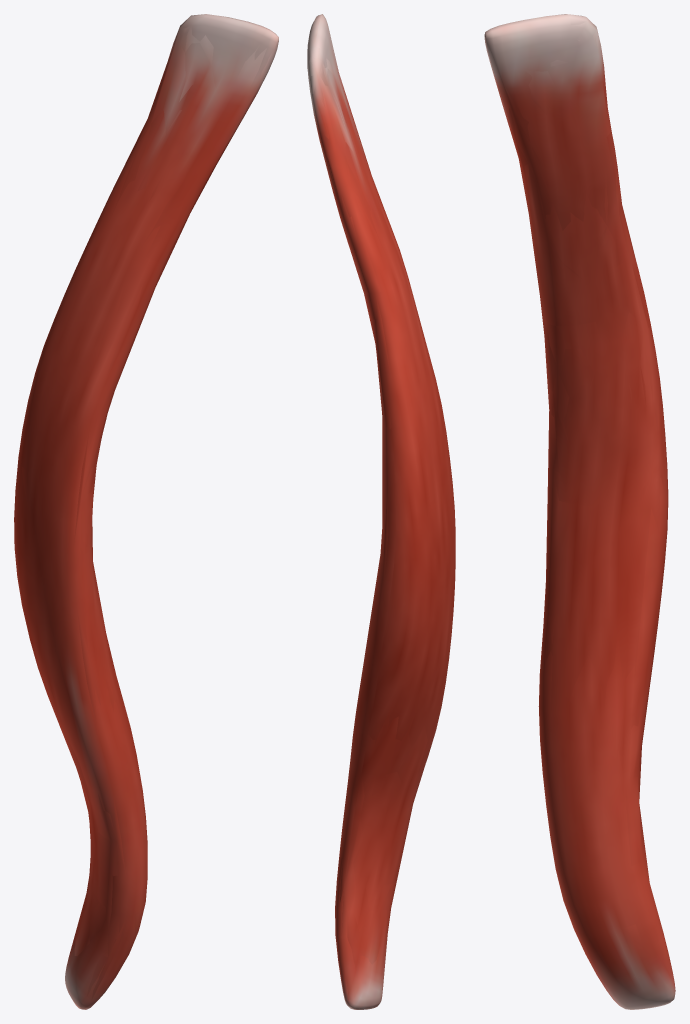
Rendered from R Sartorius.fbx.
The picture shows the model from 3 angles, left to right: view 1: azimuth 30°, elevation 25°; view 2: azimuth 150°, elevation 25°; view 3: azimuth 270°, elevation 25°; orthographic projection. The views are drawn at different scales.
Visible parts, largest first — view 1: R Sartorius, R Sartorius low; view 2: R Sartorius, R Sartorius low; view 3: R Sartorius, R Sartorius low.
Boxes of the visible parts, <box> form: R Sartorius: <box>14,14,278,1009</box>; R Sartorius low: <box>21,14,273,1000</box>; R Sartorius: <box>307,14,455,1009</box>; R Sartorius low: <box>308,39,451,1008</box>; R Sartorius: <box>484,14,675,1009</box>; R Sartorius low: <box>494,15,674,1002</box>.
Bounding box in the file's own units: 11.8 × 58.63 × 9.7.
